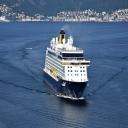cruises: (43, 31, 92, 102)
